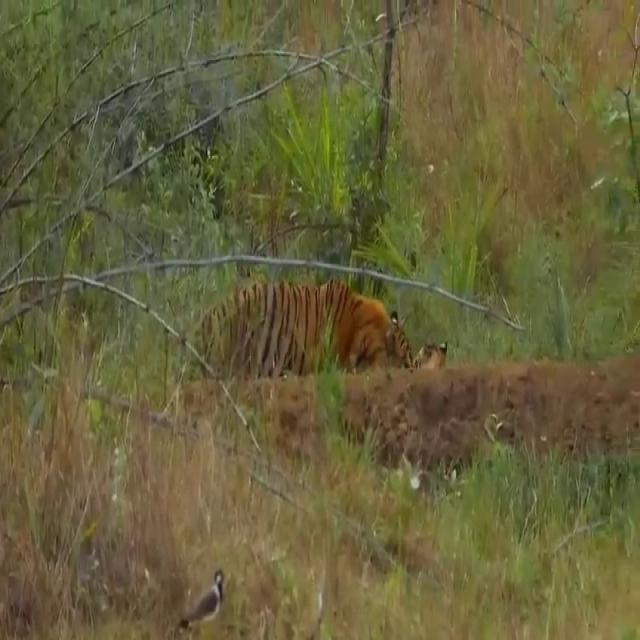tiger: (193, 276, 415, 376)
